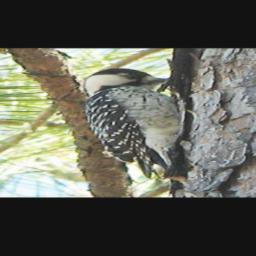Woodpecker: (82, 68, 187, 181)
